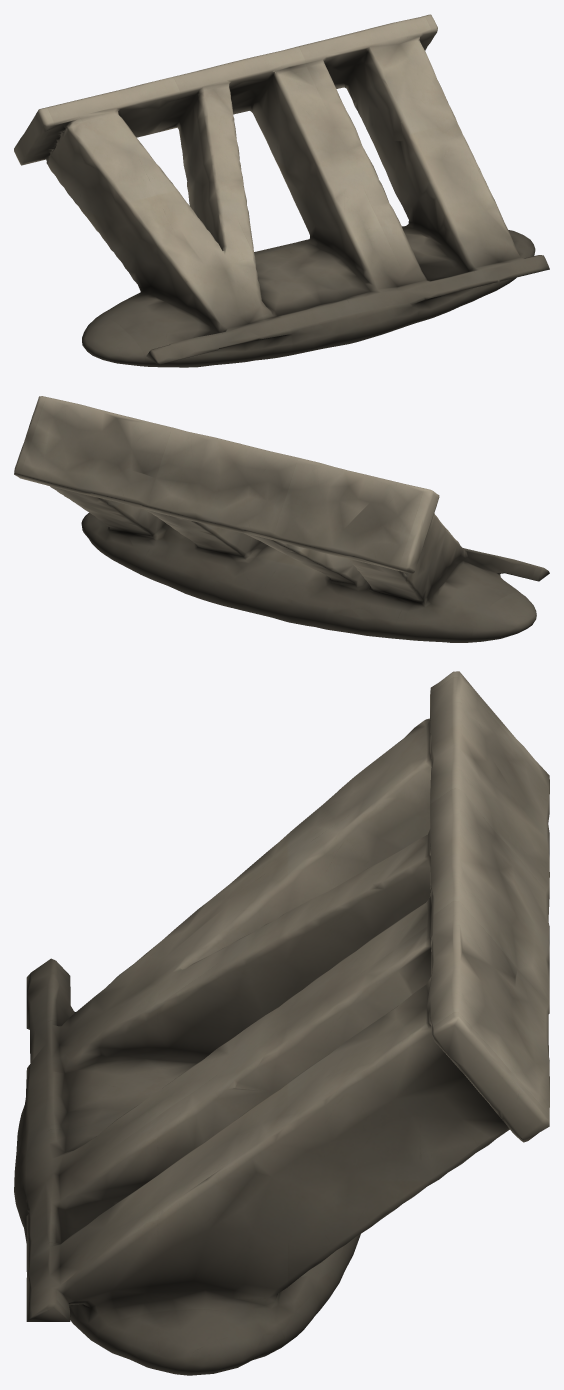
The model's file is numeral_vii.glb.
3 renders of one model, top to bottom at view 1: azimuth 30°, elevation 25°; view 2: azimuth 150°, elevation 25°; view 3: azimuth 270°, elevation 25°, orthographic. The views are drawn at different scales.
Visible parts, largest first — view 1: numeral_vii_stone; view 2: numeral_vii_stone; view 3: numeral_vii_stone.
Part boxes in pixels (x1,y1,x2,y2): numeral_vii_stone: (14, 14, 549, 367); numeral_vii_stone: (14, 396, 549, 642); numeral_vii_stone: (14, 671, 549, 1375).
Bounding box in the file's own units: 7.74 × 3.55 × 4.48.
1 material, 1 textured.
